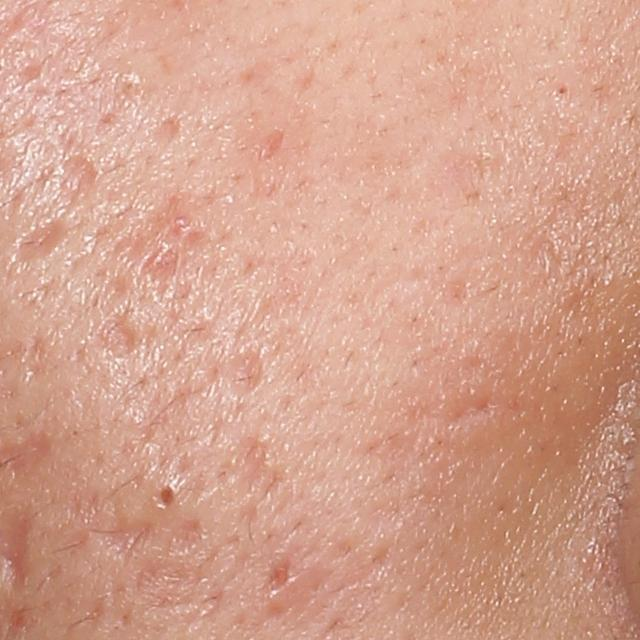atrophic_scar: (96, 188, 212, 306), (91, 304, 175, 366), (243, 123, 300, 180), (11, 218, 78, 264), (220, 347, 271, 406), (439, 390, 499, 432), (140, 108, 180, 156), (270, 559, 294, 591)
comedo: (152, 478, 185, 512)
